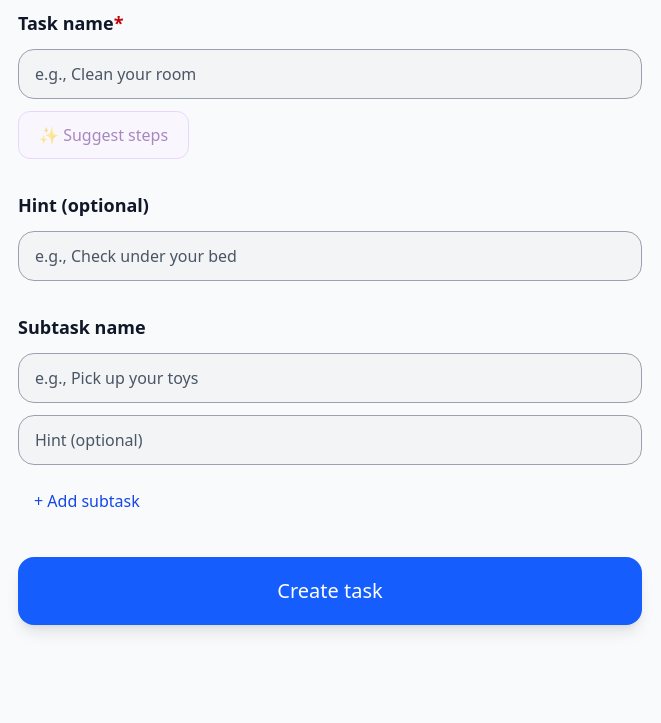
Test: AddTask - AI step suggestions › "Regenerate" replaces the current steps
The image size is (661, 723).
Type "Clean your room" into the field labelled "Task name*" at (330, 74), box [18, 49, 642, 99]
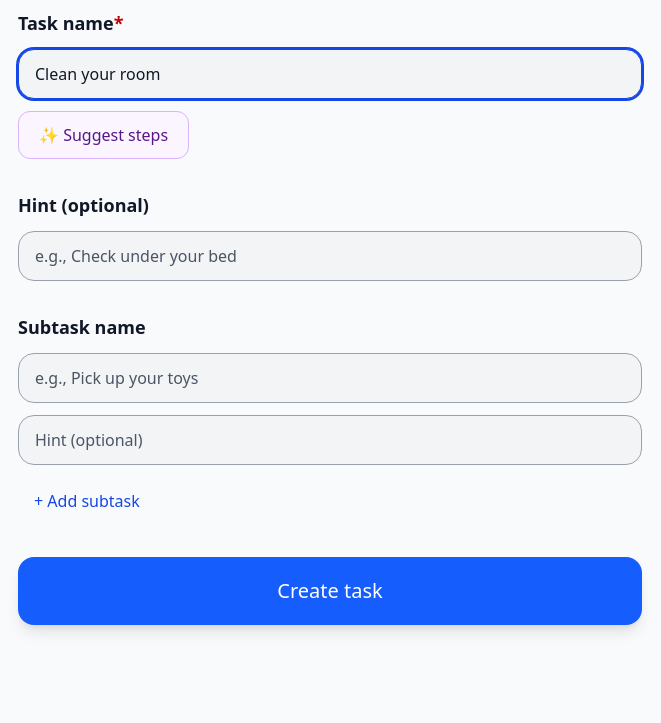
Click the button "✨ Suggest steps" at (104, 135), box [18, 111, 189, 159]
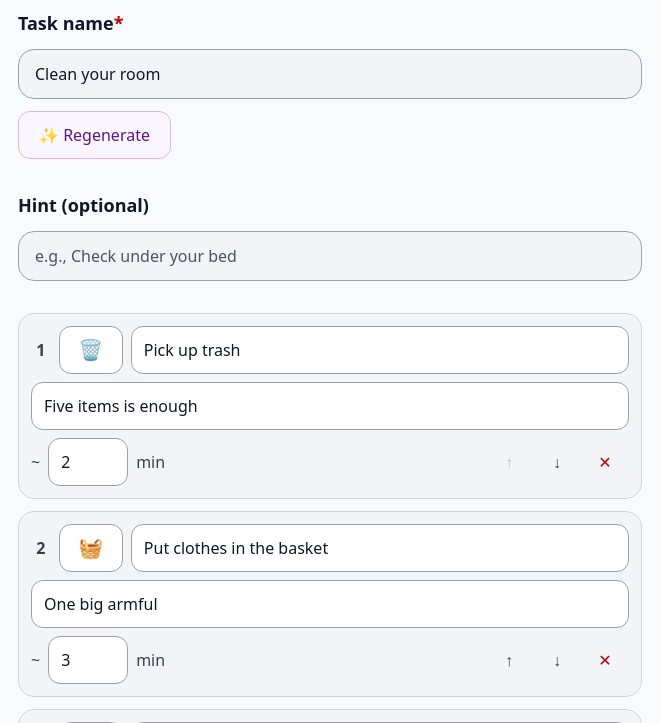
Result: the field named "Step 1 title" is shown
Type " edited" into the field named "Step 1 title" at (380, 350), box [131, 326, 629, 374]
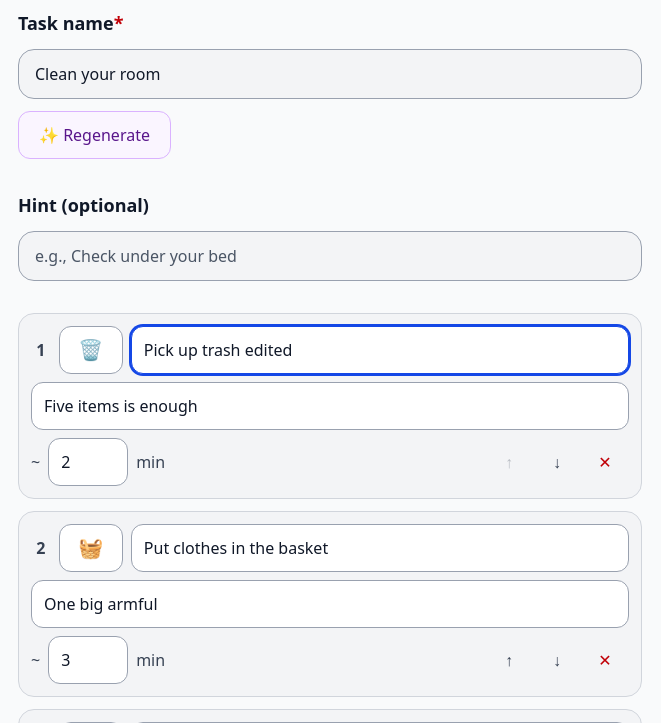
Click the button "✨ Regenerate" at (94, 135), box [18, 111, 171, 159]
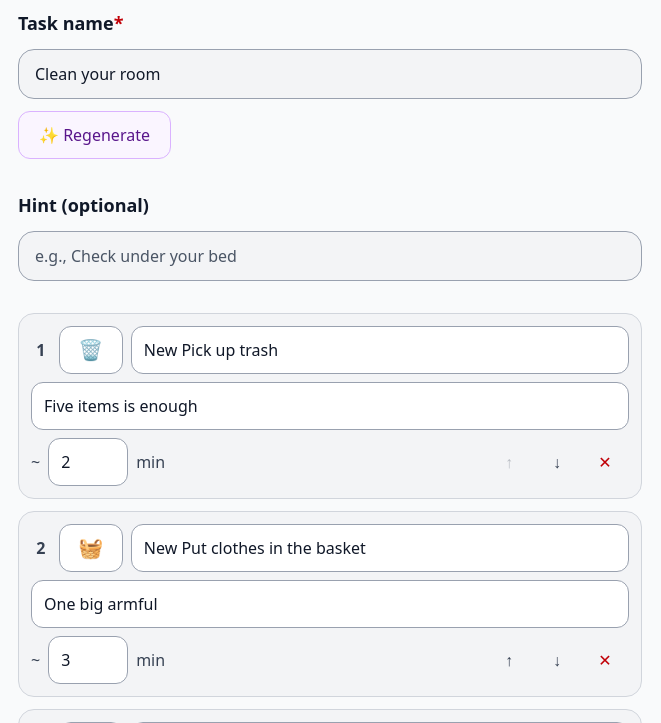
Result: the field named "Step 1 title" holds "New Pick up trash" at [131, 326, 629, 374]
